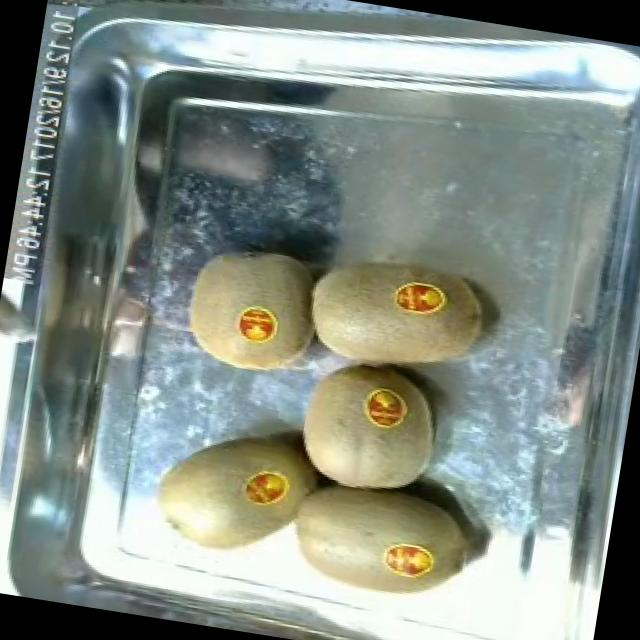Fruit: (293, 246, 500, 394), (281, 350, 455, 510), (368, 530, 446, 594)
